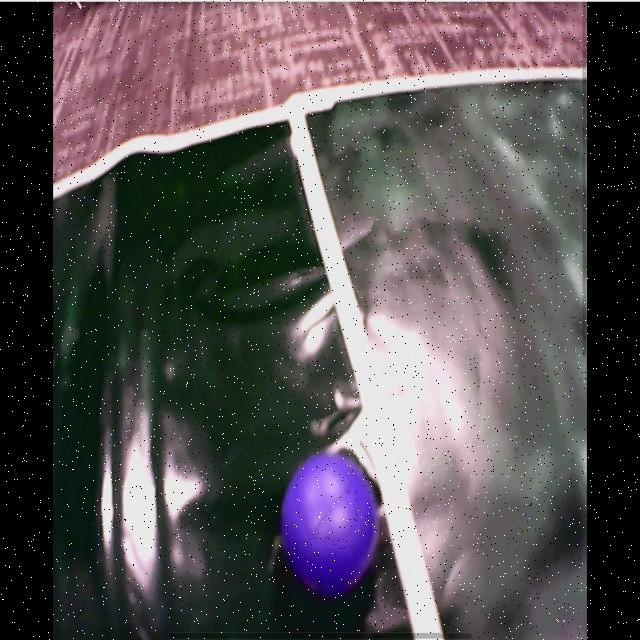ball: (282, 452, 378, 595)
